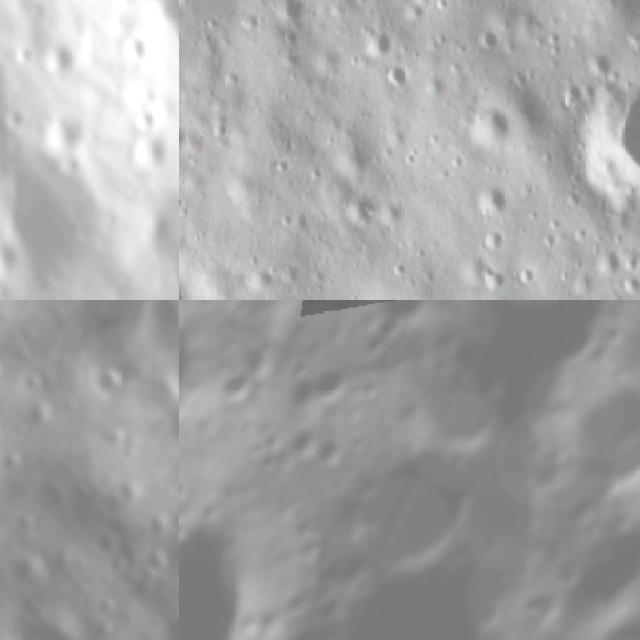crater: (300, 399, 508, 620), (179, 503, 296, 640), (539, 488, 640, 640), (550, 370, 640, 515), (198, 318, 296, 435), (571, 66, 640, 212), (179, 307, 217, 427), (296, 352, 361, 421), (369, 300, 449, 343), (452, 93, 512, 149), (38, 100, 92, 160), (39, 31, 77, 85), (140, 371, 179, 417), (88, 364, 127, 408), (88, 529, 124, 566), (339, 192, 374, 225), (142, 510, 175, 544), (17, 368, 49, 400), (179, 116, 196, 171), (144, 546, 173, 578), (0, 447, 28, 480), (0, 233, 20, 277), (100, 492, 128, 523), (105, 550, 130, 578), (160, 606, 179, 640), (0, 603, 8, 639)
